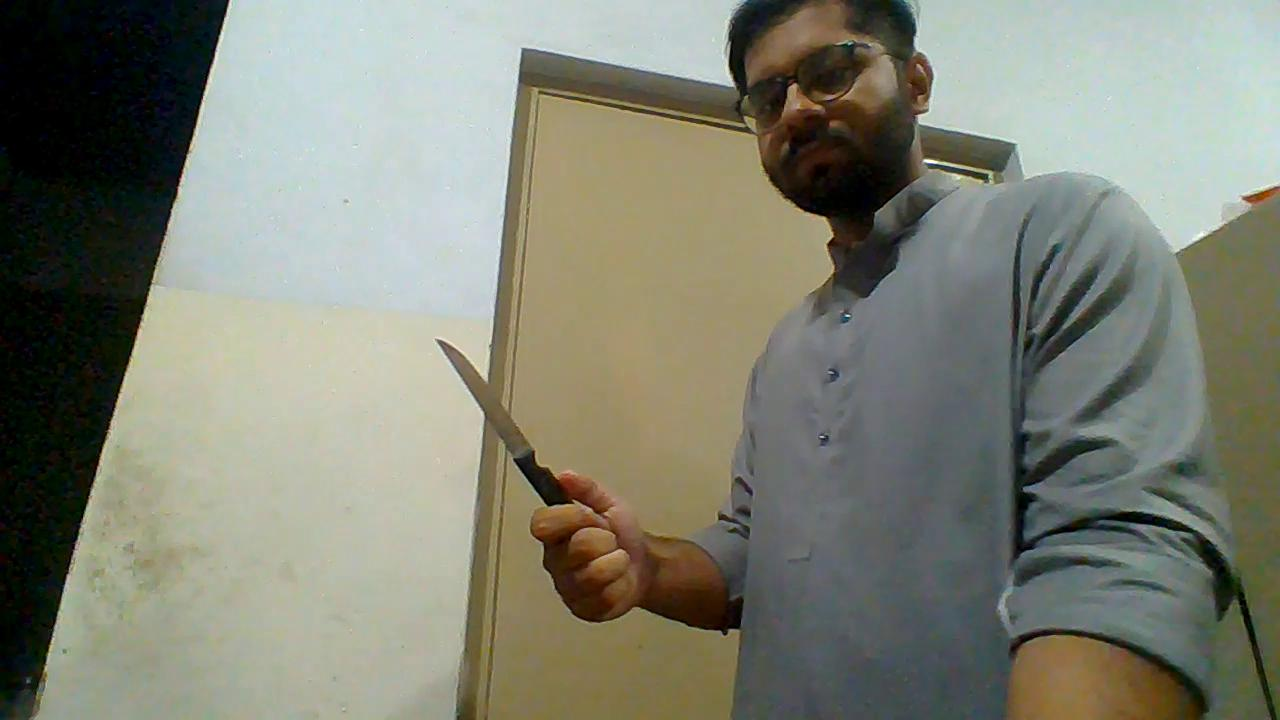criminal: (435, 0, 1240, 720)
weapon: (434, 336, 571, 508)
